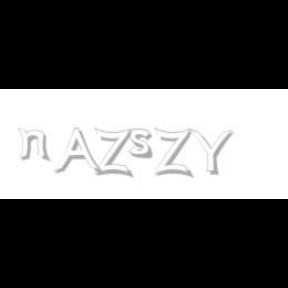A: (54, 128, 102, 176)
Y: (187, 128, 233, 176)
Z: (94, 128, 132, 178), (154, 128, 192, 178)
n: (17, 128, 51, 162)
s: (129, 128, 157, 160)
